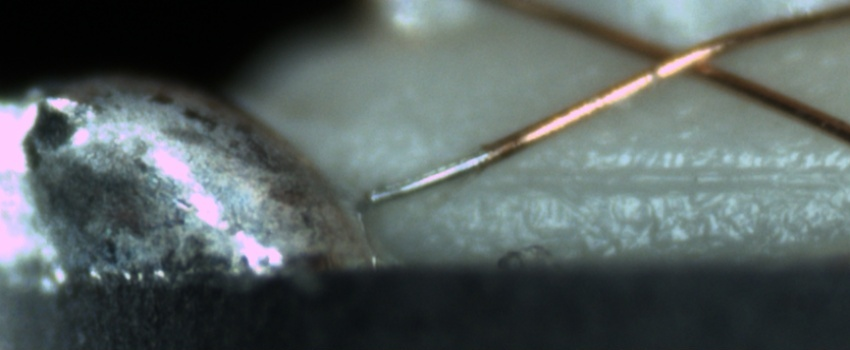CL: (626, 27, 730, 88)
DL: (477, 145, 850, 207)
TS: (357, 149, 490, 207)
